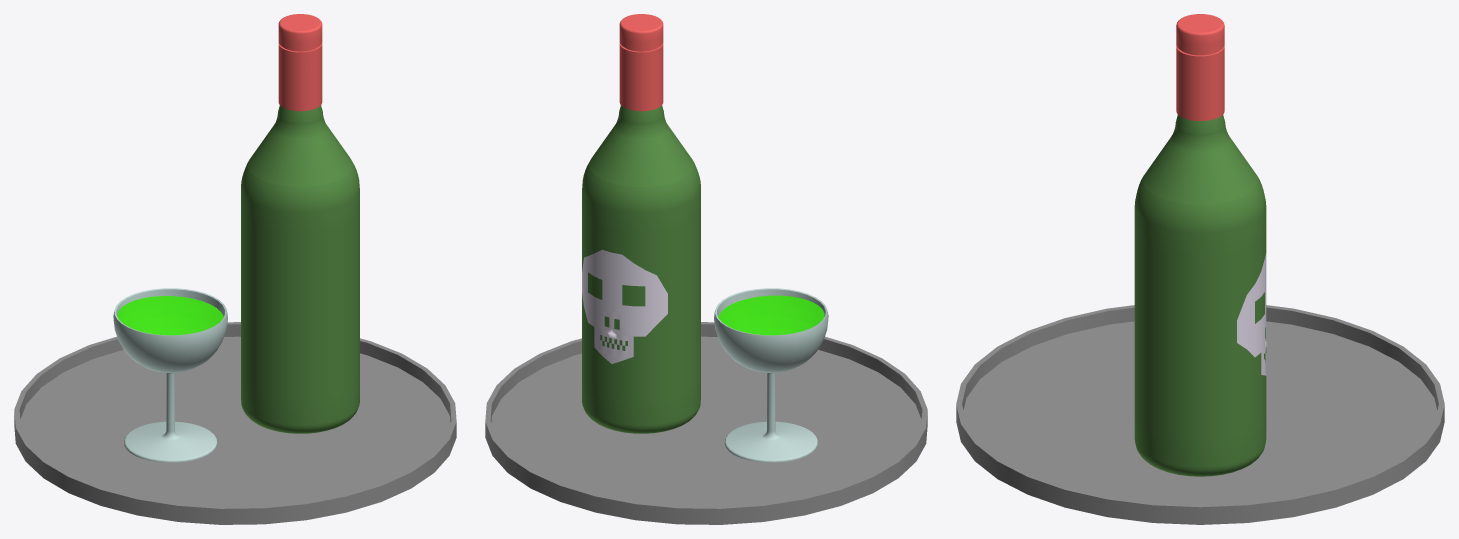
Rendered from Grass&Bottle.fbx.
3 renders of one model, left to right at view 1: azimuth 30°, elevation 25°; view 2: azimuth 150°, elevation 25°; view 3: azimuth 270°, elevation 25°, orthographic. The views are drawn at different scales.
Visible parts, largest first — view 1: Grass&Bottle&Plate; view 2: Grass&Bottle&Plate; view 3: Grass&Bottle&Plate.
Boxes of the visible parts, x1=… form: Grass&Bottle&Plate: x1=14, y1=14, x2=456, y2=524; Grass&Bottle&Plate: x1=485, y1=14, x2=927, y2=524; Grass&Bottle&Plate: x1=956, y1=14, x2=1444, y2=524.
Bounding box in the file's own units: 1 × 0.981 × 1.
